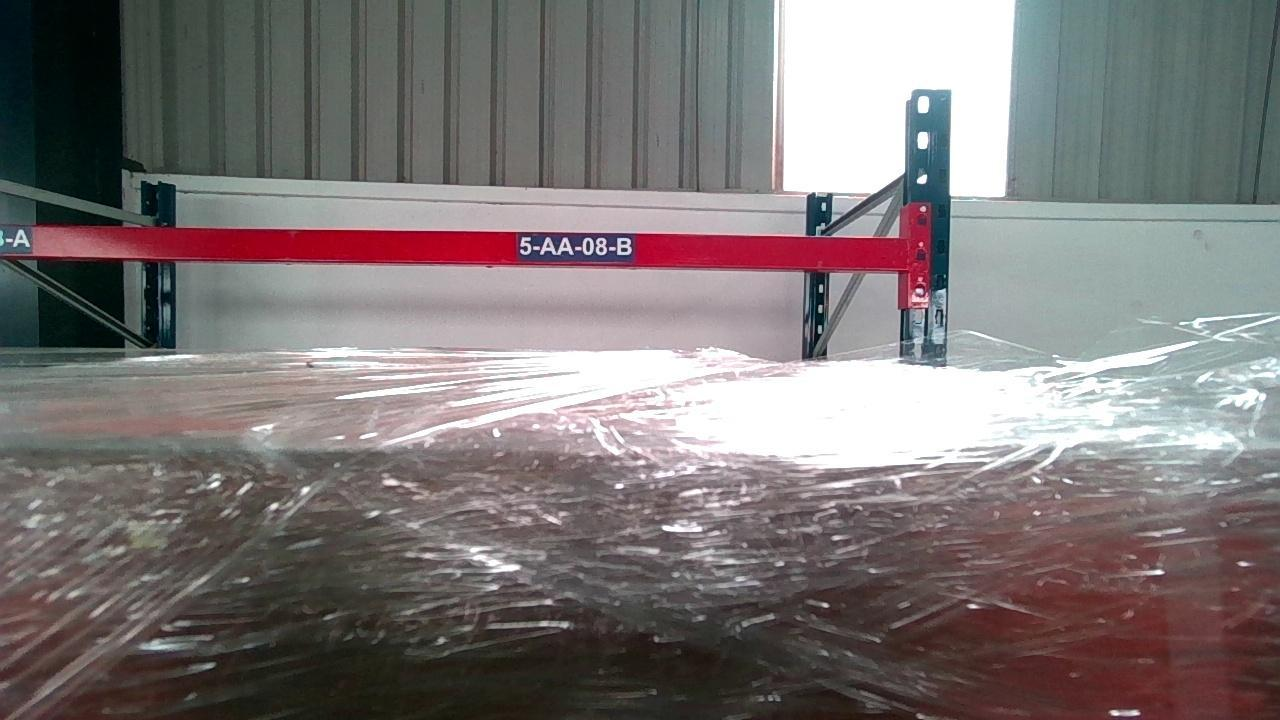h_rack: (0, 225, 905, 269)
